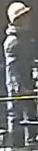helmet: (6, 2, 31, 23)
vest: (3, 33, 29, 92)
